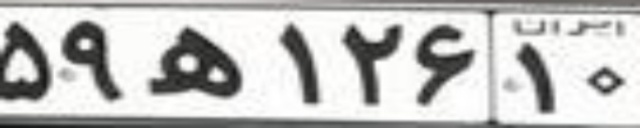0: (583, 66, 627, 95)
1: (272, 22, 321, 104), (511, 41, 556, 113)
2: (338, 21, 405, 104)
5: (0, 21, 50, 100)
6: (411, 23, 476, 105)
9: (59, 19, 123, 101)
he: (146, 24, 245, 98)
